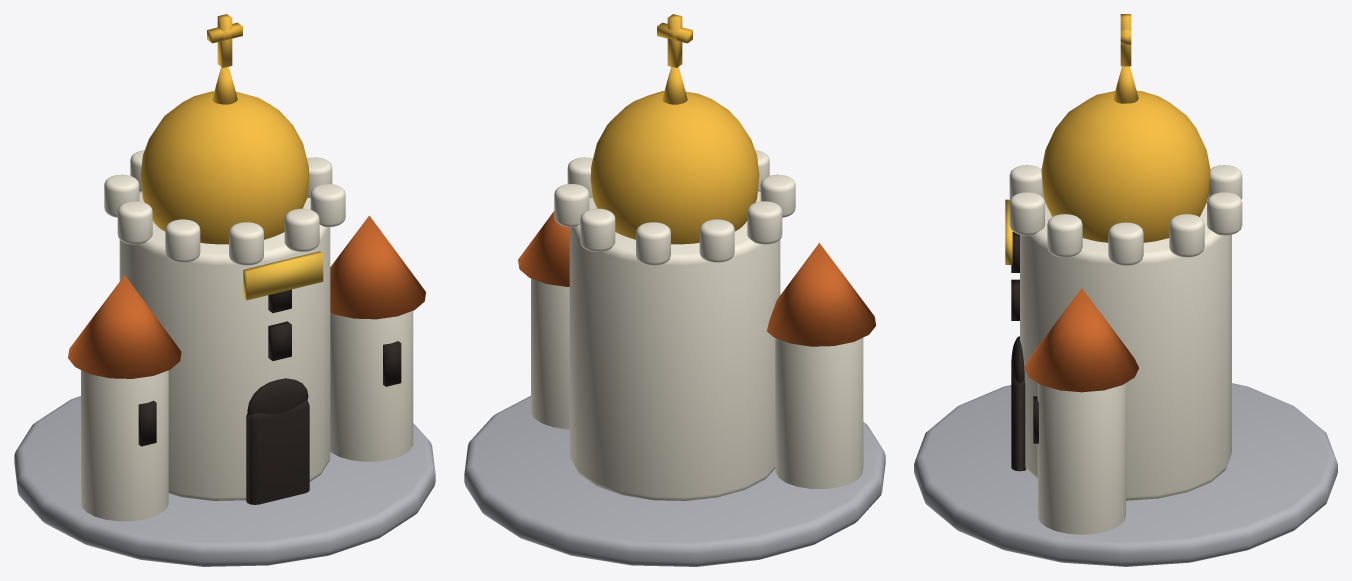
File: TheCitadel.fbx
3 views of the same model, side by side, from view 1: azimuth 30°, elevation 25°; view 2: azimuth 150°, elevation 25°; view 3: azimuth 270°, elevation 25° (orthographic).
Parts seen in each view (by area): view 1: TheCitadel; view 2: TheCitadel; view 3: TheCitadel.
Part boxes in pixels (x1,y1,x2,y2): TheCitadel: [14, 14, 435, 566]; TheCitadel: [464, 14, 885, 566]; TheCitadel: [914, 14, 1337, 566].
Size of the model in its own units: 0.96 by 1.16 by 0.96.
